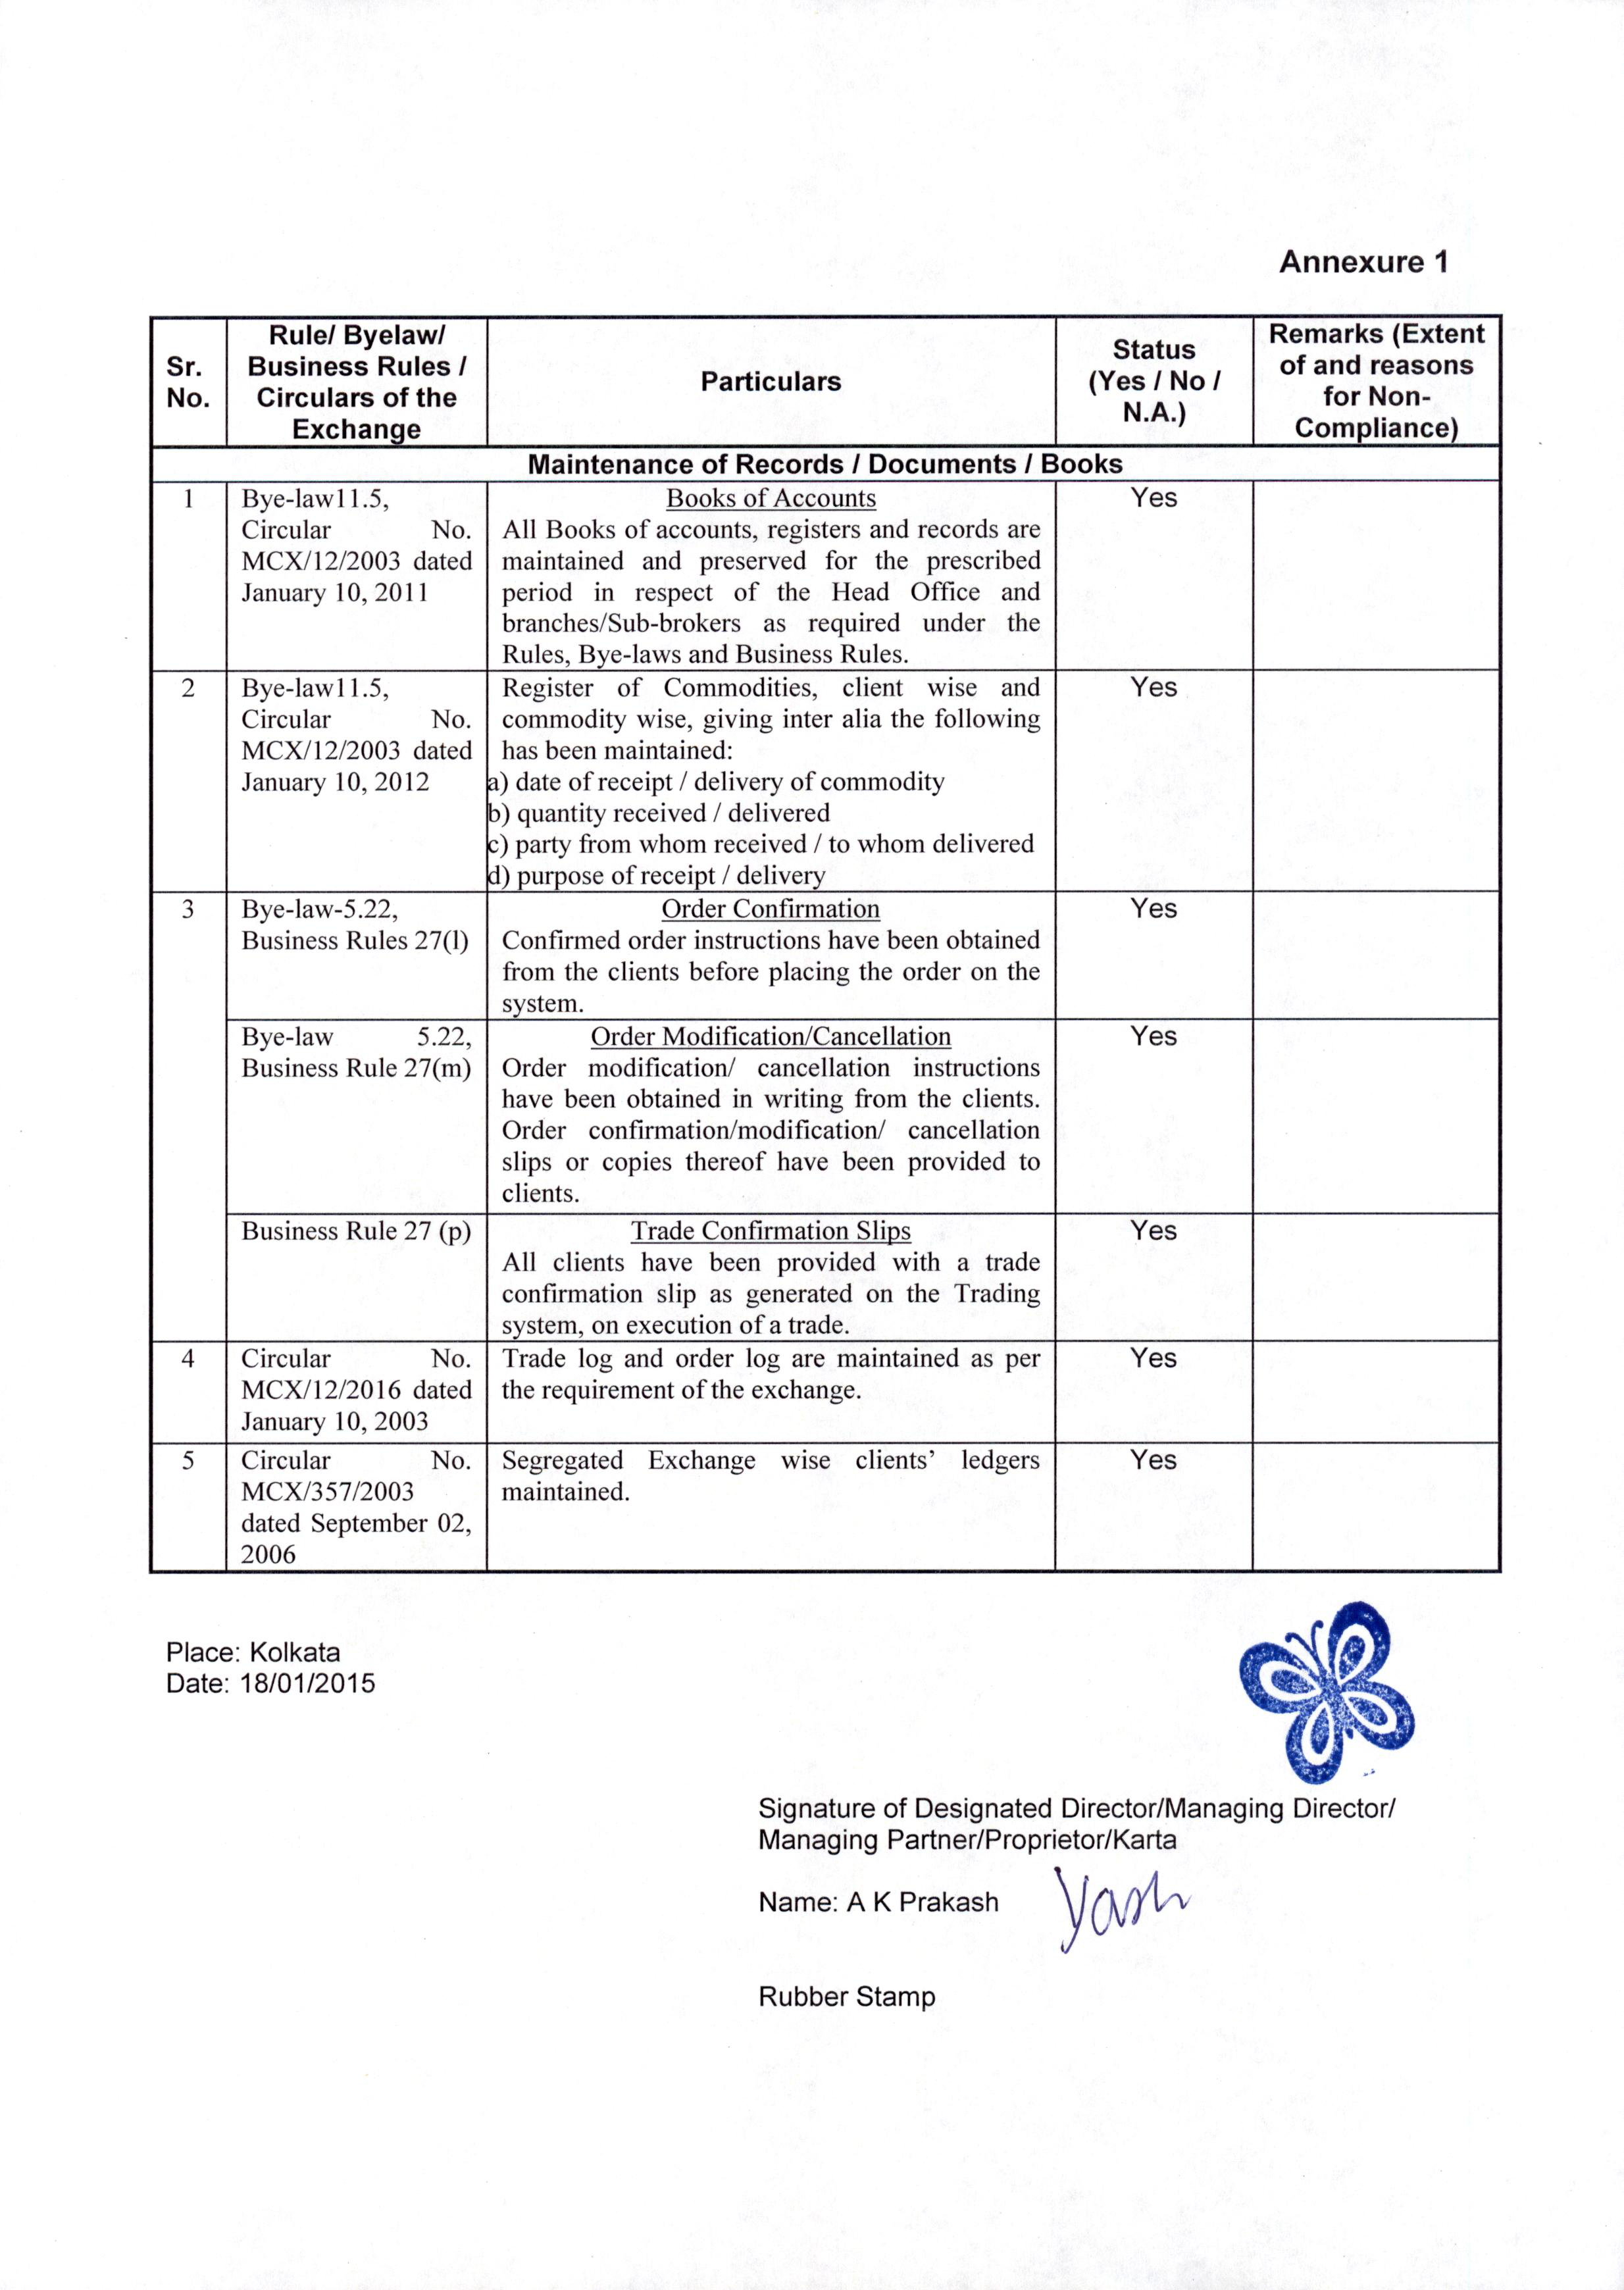Signature: (1048, 1856, 1204, 1958)
